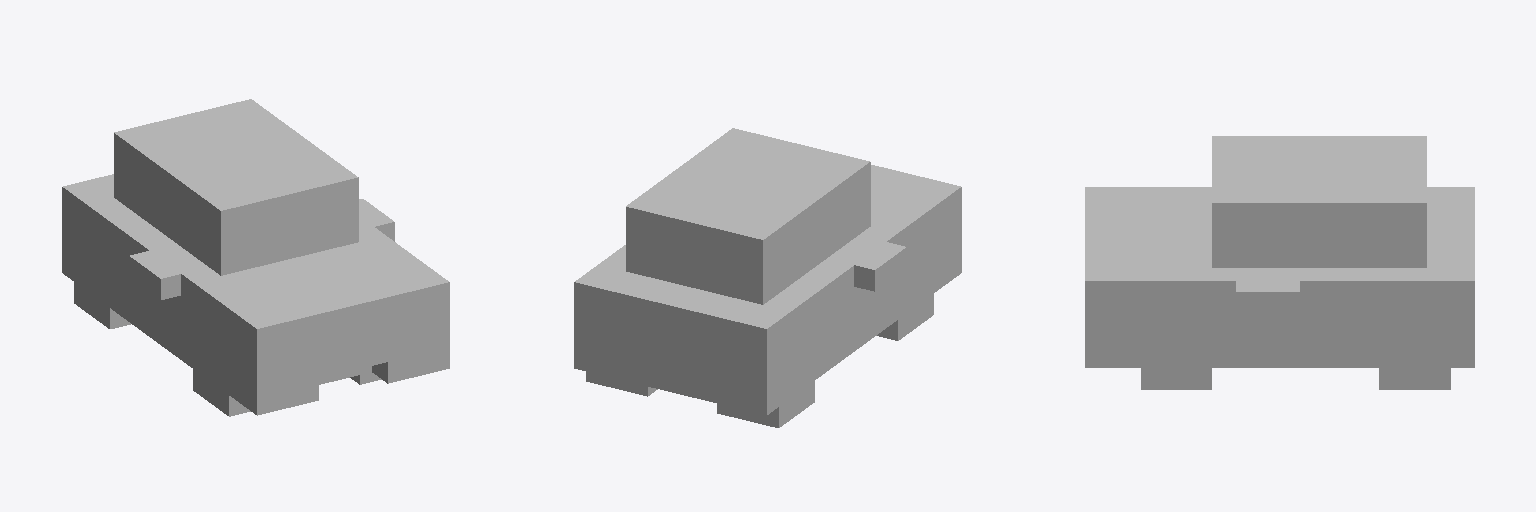
The model's file is car3.obj.
The picture shows the model from 3 angles: view 1: azimuth 30°, elevation 25°; view 2: azimuth 150°, elevation 25°; view 3: azimuth 270°, elevation 25°; orthographic projection.
Visible parts, largest first — view 1: object 1; view 2: object 1; view 3: object 1.
Boxes of the visible parts, box(x1,y1,x2,y2) form: object 1: box(62, 99, 449, 416); object 1: box(574, 128, 961, 427); object 1: box(1085, 136, 1474, 389).
Size of the model in its own units: 3.4 by 2.4 by 4.9.